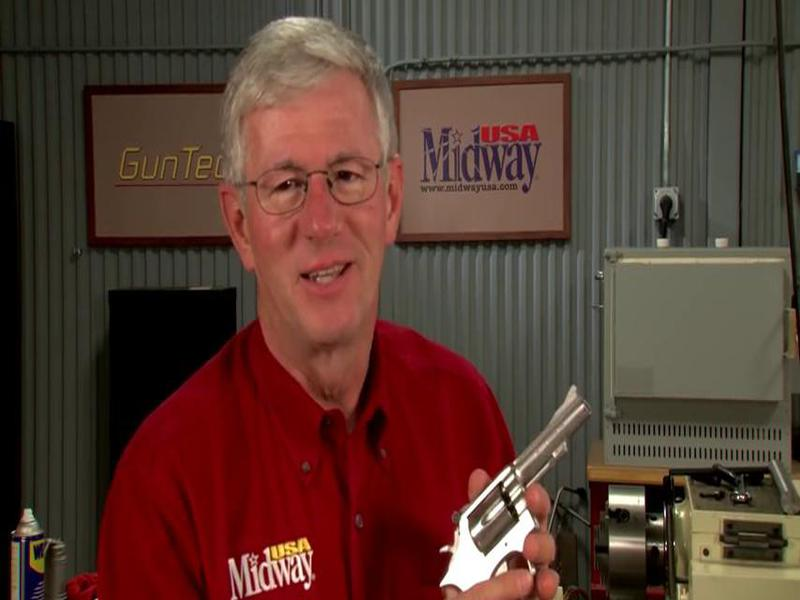Revolver: (432, 349, 596, 600)
